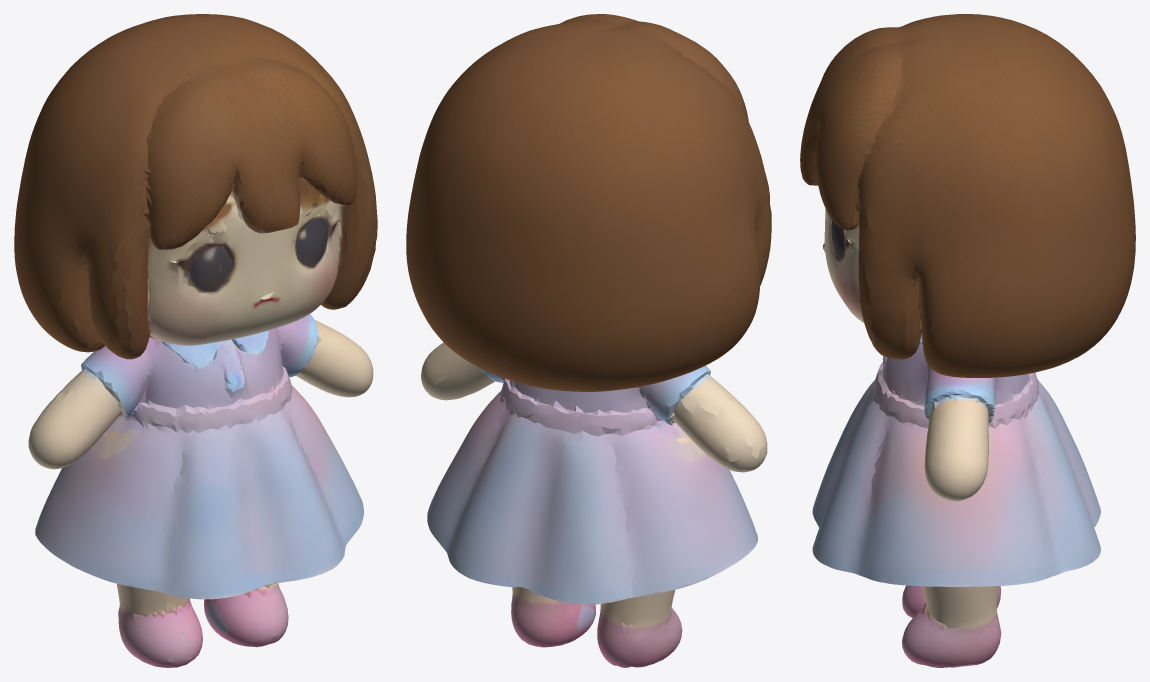
The model's file is aya_hyper3d.glb.
3 renders of one model, left to right at view 1: azimuth 30°, elevation 25°; view 2: azimuth 150°, elevation 25°; view 3: azimuth 270°, elevation 25°, orthographic.
Parts seen in each view (by area): view 1: Aya_Hyper3D; view 2: Aya_Hyper3D; view 3: Aya_Hyper3D.
Boxes of the visible parts, bbox=[...] form: Aya_Hyper3D: bbox=[14, 14, 377, 667]; Aya_Hyper3D: bbox=[406, 14, 771, 667]; Aya_Hyper3D: bbox=[800, 14, 1135, 667].
Size of the model in its own units: 1.11 by 1.9 by 0.9631.
1 material, 1 textured.
